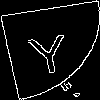Y: (25, 25, 72, 76)
